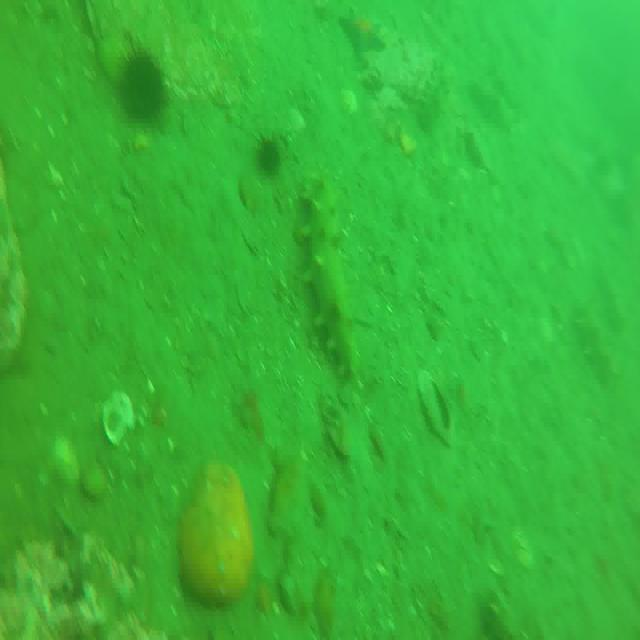echinus: (122, 46, 162, 129), (252, 137, 281, 178)
holothurian: (302, 176, 356, 377), (569, 286, 618, 382), (416, 44, 445, 139)
starfish: (342, 6, 384, 64)
